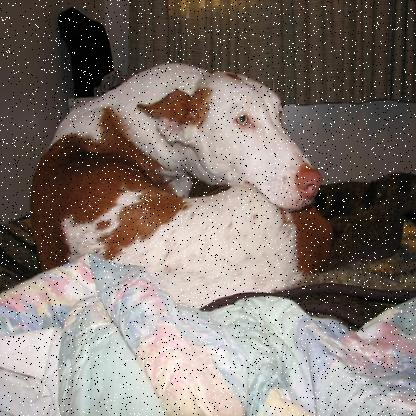dog: (38, 69, 338, 286)
